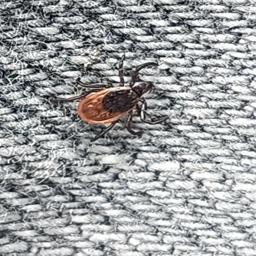Ixodes scapularis: (53, 55, 168, 142)
